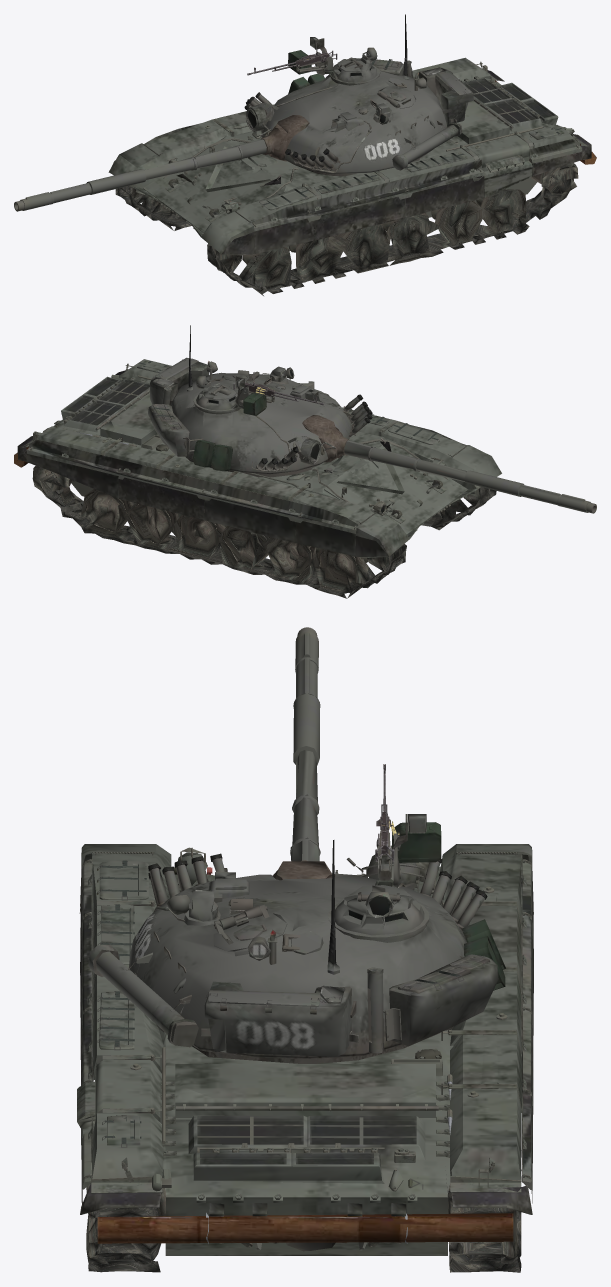
The picture shows the model from 3 angles, top to bottom: view 1: azimuth 30°, elevation 25°; view 2: azimuth 150°, elevation 25°; view 3: azimuth 270°, elevation 25°; orthographic projection. The views are drawn at different scales.
Visible parts, largest first — view 1: object 4, turret_body, object 2, gun, object 1, object 3; view 2: object 4, turret_body, object 2, gun, object 1, object 3; view 3: object 4, turret_body, object 1, object 2, object 3, gun.
Part boxes in pixels (x1,y1,x2,y2): object 4: [108, 57, 591, 255]; turret_body: [14, 14, 473, 209]; object 2: [115, 158, 578, 295]; gun: [14, 182, 92, 211]; object 1: [247, 42, 596, 164]; object 3: [261, 59, 561, 209]; object 4: [17, 359, 501, 557]; turret_body: [148, 325, 595, 511]; object 2: [32, 465, 496, 598]; gun: [518, 483, 596, 513]; object 1: [14, 372, 323, 467]; object 3: [55, 358, 439, 442]; object 4: [77, 844, 533, 1255]; turret_body: [88, 693, 505, 1063]; object 1: [97, 764, 513, 1243]; object 2: [86, 1080, 521, 1272]; object 3: [97, 860, 484, 1189]; gun: [293, 627, 320, 708].
Size of the model in its own units: 7.86 by 2.69 by 2.94.
Materials: 5 (5 with a texture image).
